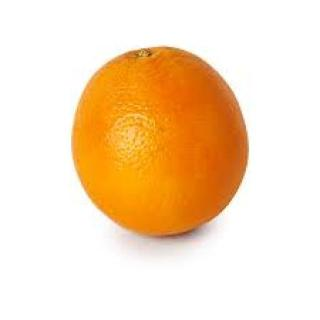orange: (59, 21, 260, 257)
